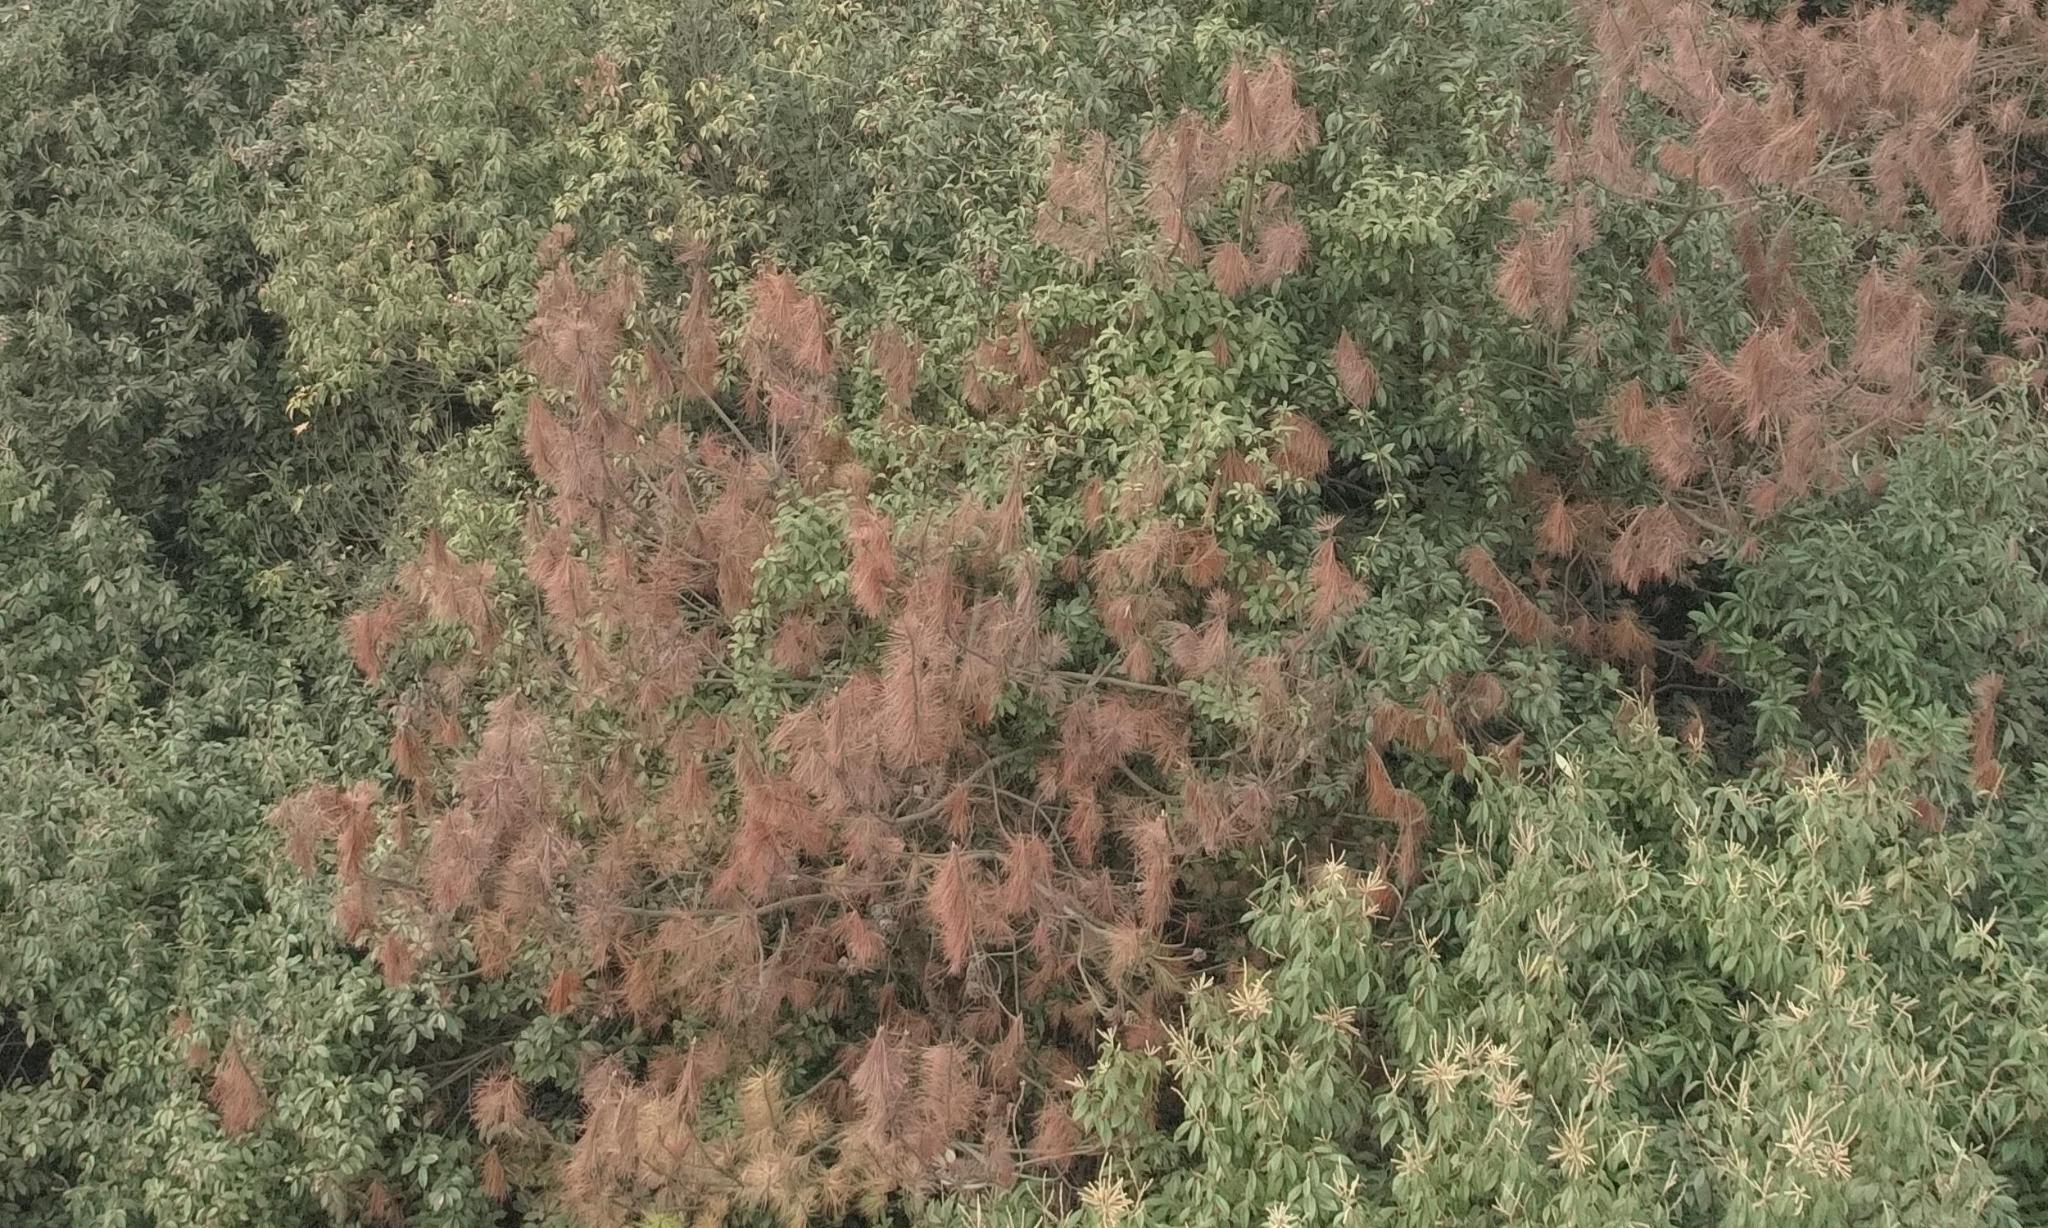heavy: (342, 224, 1493, 1228), (1408, 0, 2048, 560)
